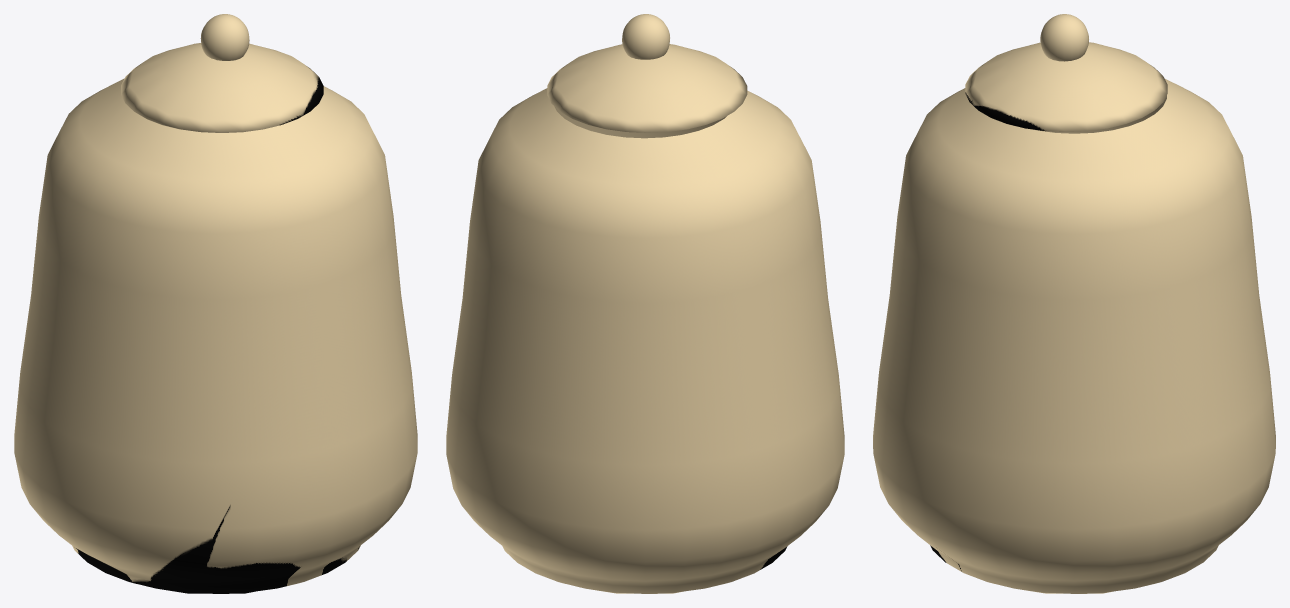
Rendered from WhiteJar.fbx.
The picture shows the model from 3 angles, left to right: view 1: azimuth 30°, elevation 25°; view 2: azimuth 150°, elevation 25°; view 3: azimuth 270°, elevation 25°; orthographic projection.
Visible parts, largest first — view 1: WhiteJar; view 2: WhiteJar; view 3: WhiteJar.
Boxes of the visible parts, x1,y1,x2,y2 form: WhiteJar: (14,14,417,593); WhiteJar: (446,14,844,593); WhiteJar: (873,14,1275,593).
Bounding box in the file's own units: 15.55 × 22.25 × 15.47.
Materials: 1 (1 with a texture image).
